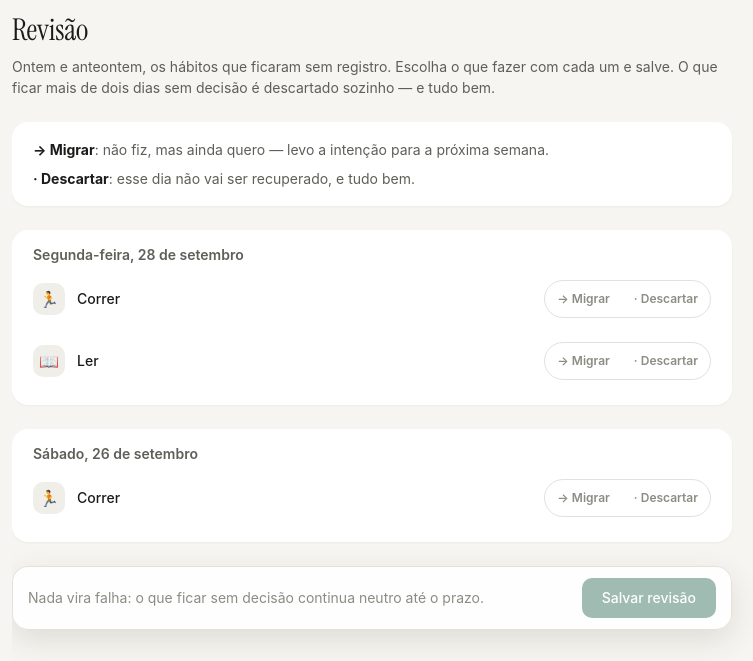
Test: ReviewPage (revisão da semana) › escolhe, muda de ideia e só grava ao salvar; os decididos somem
Check: the text "Correr" below "segunda-feira, 28 de setembro" is shown, box [77,290,120,307]
Check: the text "Ler" is shown, box [77,350,99,371]
Click the 1st button "→ Migrar". click: (584, 299)
box: [545,281,622,317]
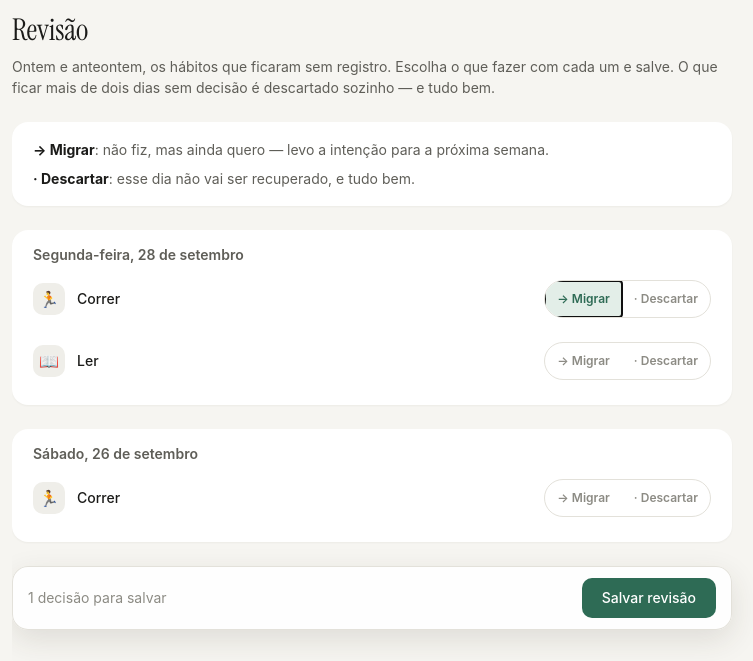
Click the 1st button "· Descartar". click: (666, 299)
box: [622,281,710,317]
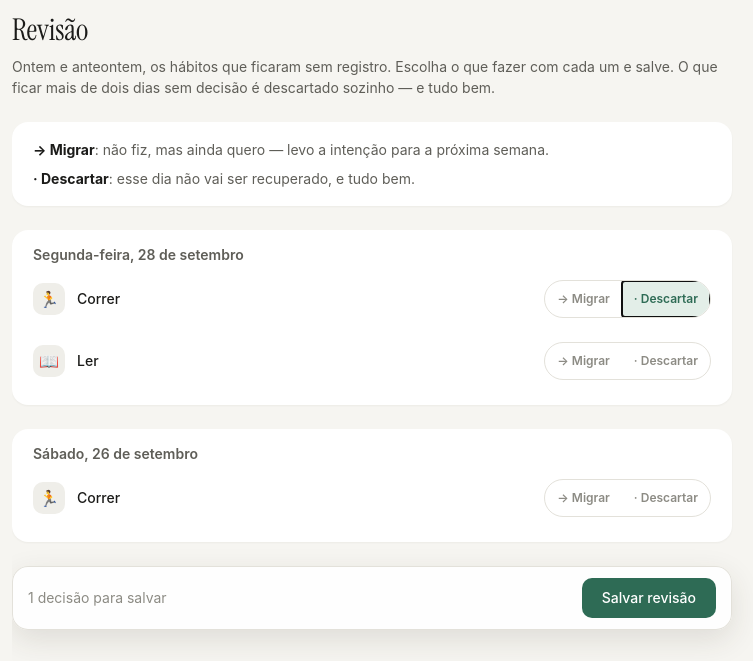
Check: the 1st button "· Descartar" is pressed, box [622,281,710,317]
Check: the 1st button "→ Migrar" is not pressed, box [545,281,622,317]
Click the button "→ Migrar" in the row of "Ler". click: (584, 361)
box: [545,343,622,379]
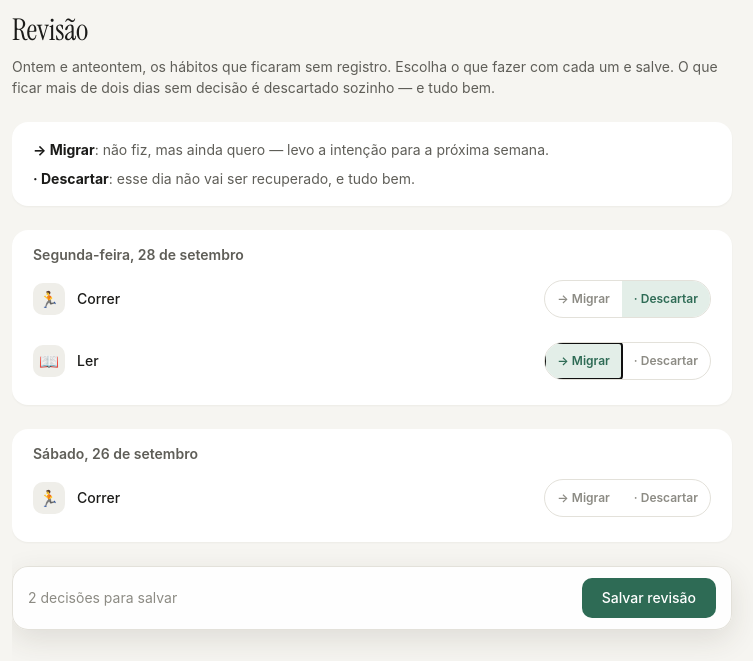
Click the button "Salvar revisão". click: (649, 598)
box: [582,578,716,618]
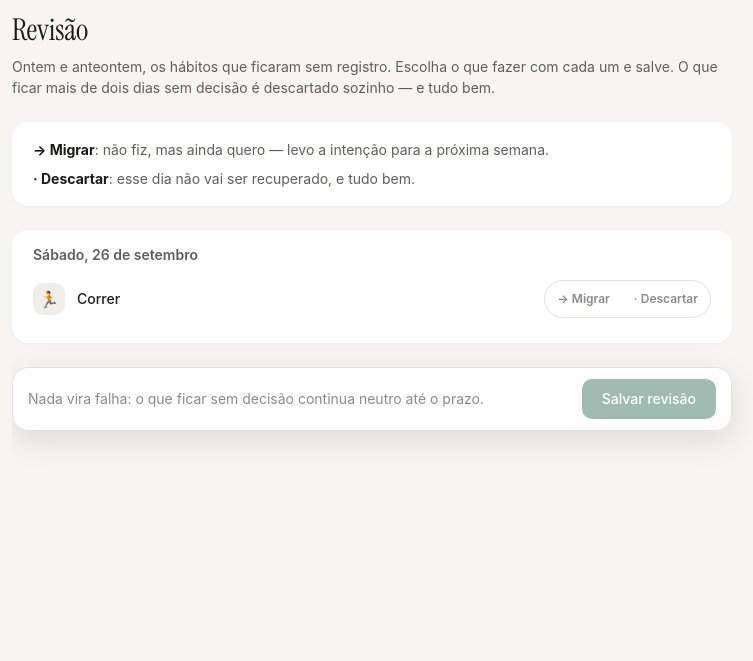
Check: the element "26 de setembro" is shown, box [12,230,732,343]
Check: the heading "28 de setembro" is gone
